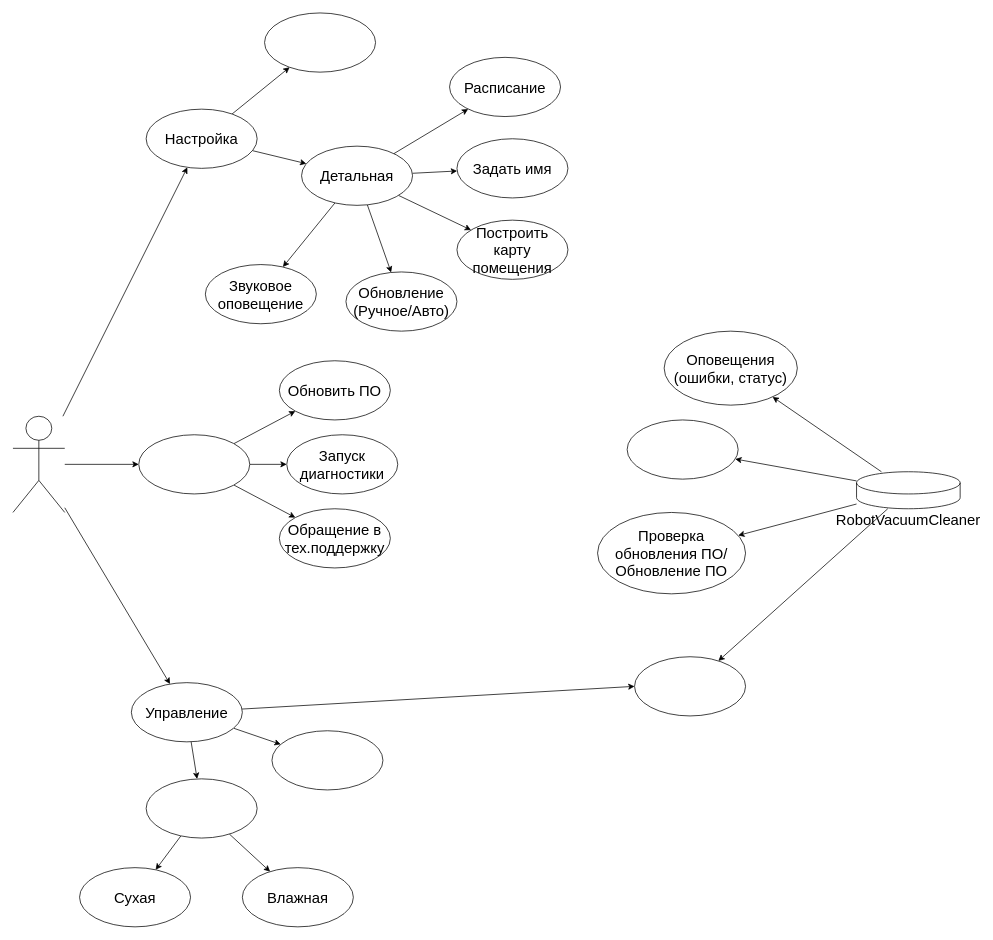
Image size: 993x940. Some labels were removed from this diagram. The centre of each missing label's shape, as x and y in pixels:
"User" goes at (38,464).
"Возврат на базу" goes at (690,686).
"Обслуживание" goes at (194,464).
"Первичная (Авто)" goes at (320,42).
"Ручное" goes at (327,760).
"Самоочистка" goes at (682,449).
"Уборка" goes at (201,808).
